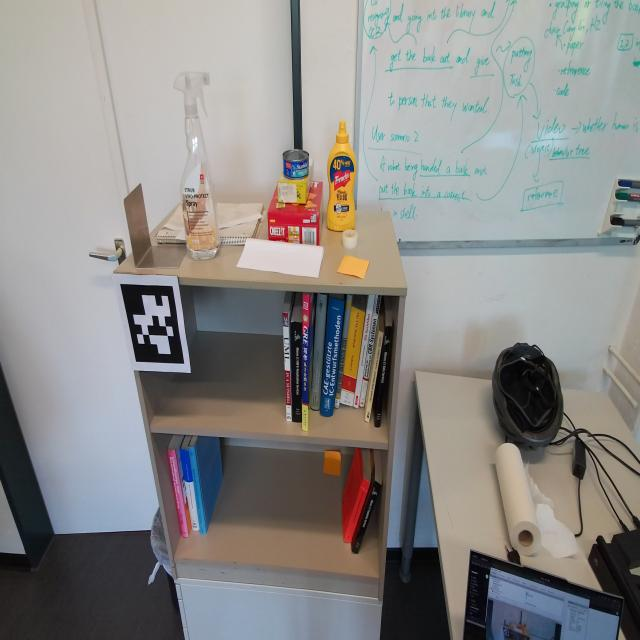Book Spine: (321, 295, 344, 418), (359, 294, 382, 407), (353, 293, 375, 409), (340, 308, 365, 407), (310, 291, 328, 411), (353, 479, 381, 554), (335, 295, 353, 410), (365, 329, 384, 423), (375, 325, 392, 428), (168, 450, 187, 540), (188, 445, 207, 534), (180, 448, 200, 532), (345, 477, 370, 543), (291, 321, 303, 423), (302, 294, 310, 432), (282, 312, 292, 422)
